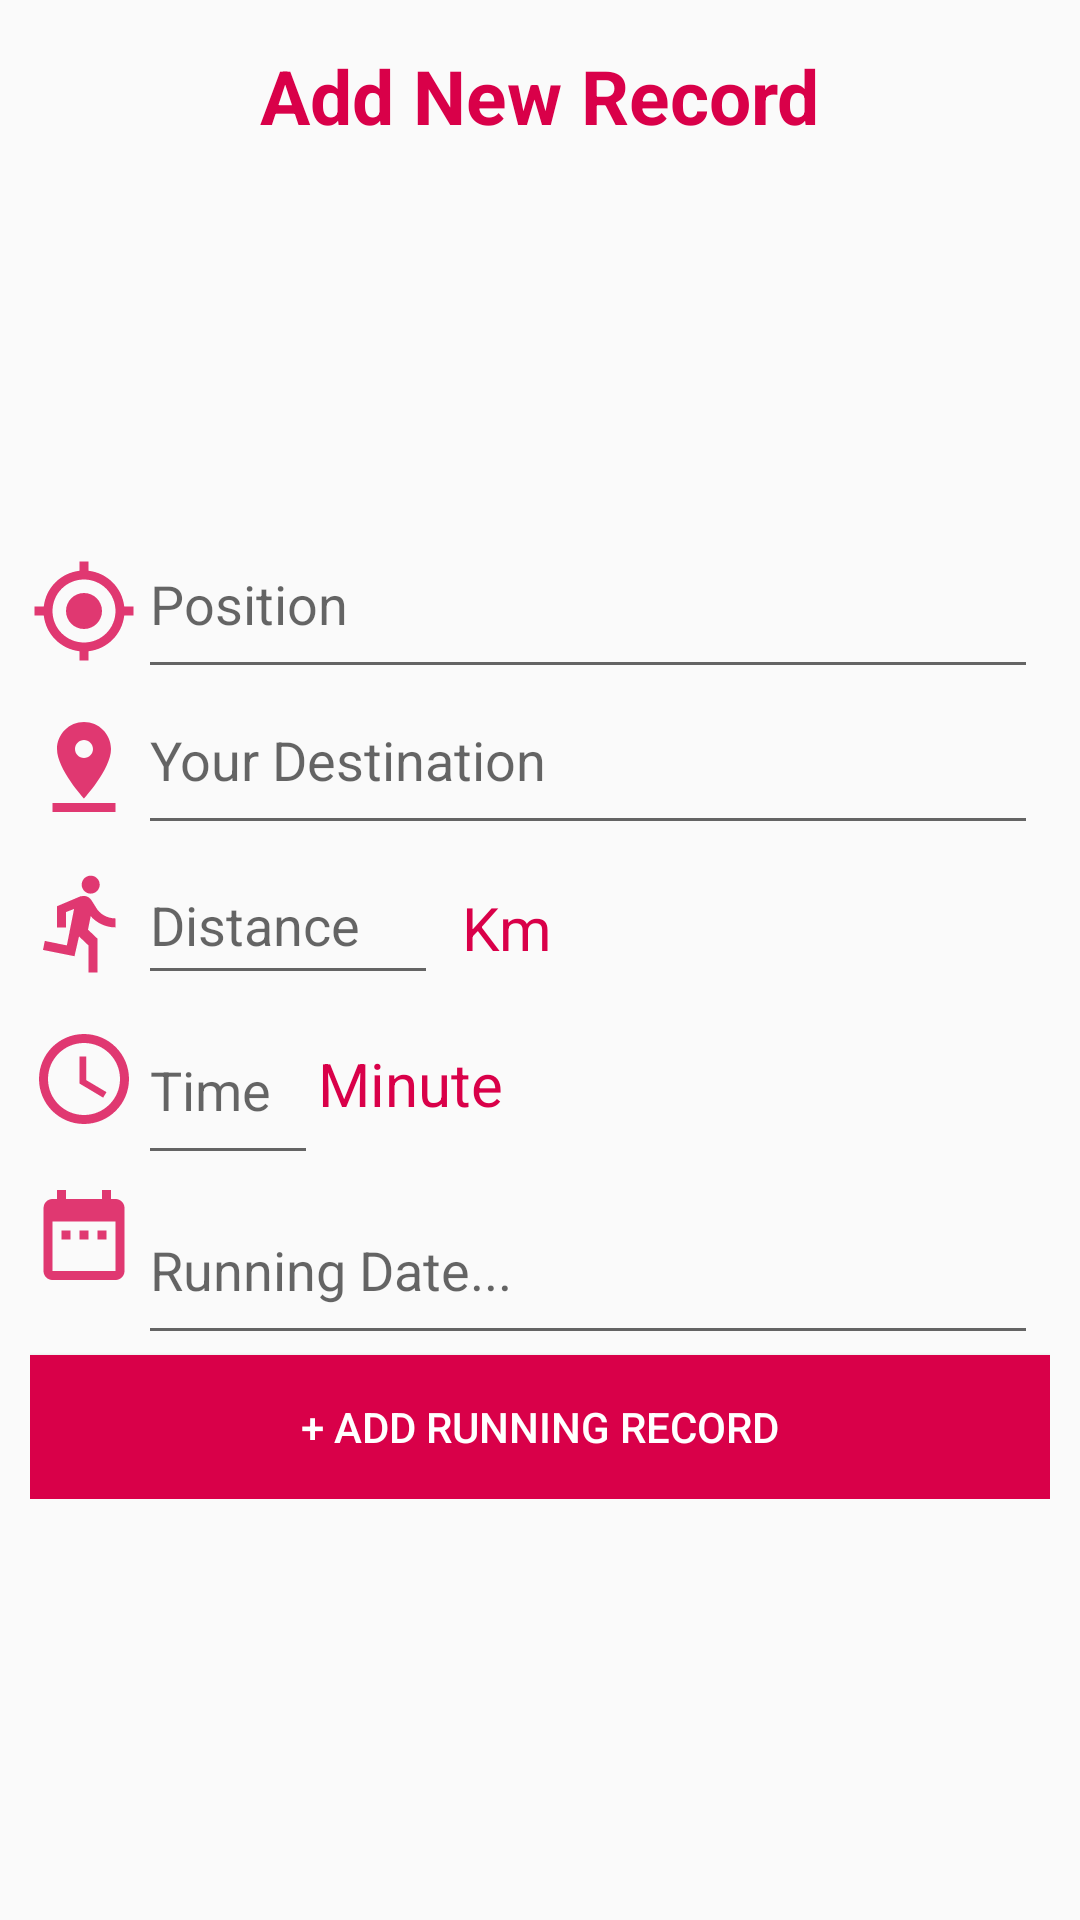

Screen size 1080*1920. Icon name, then its center in pixels as point (x, y):
date range: point (84, 1235)
directions run: point (79, 924)
location: point (84, 611)
pin drop: point (84, 767)
